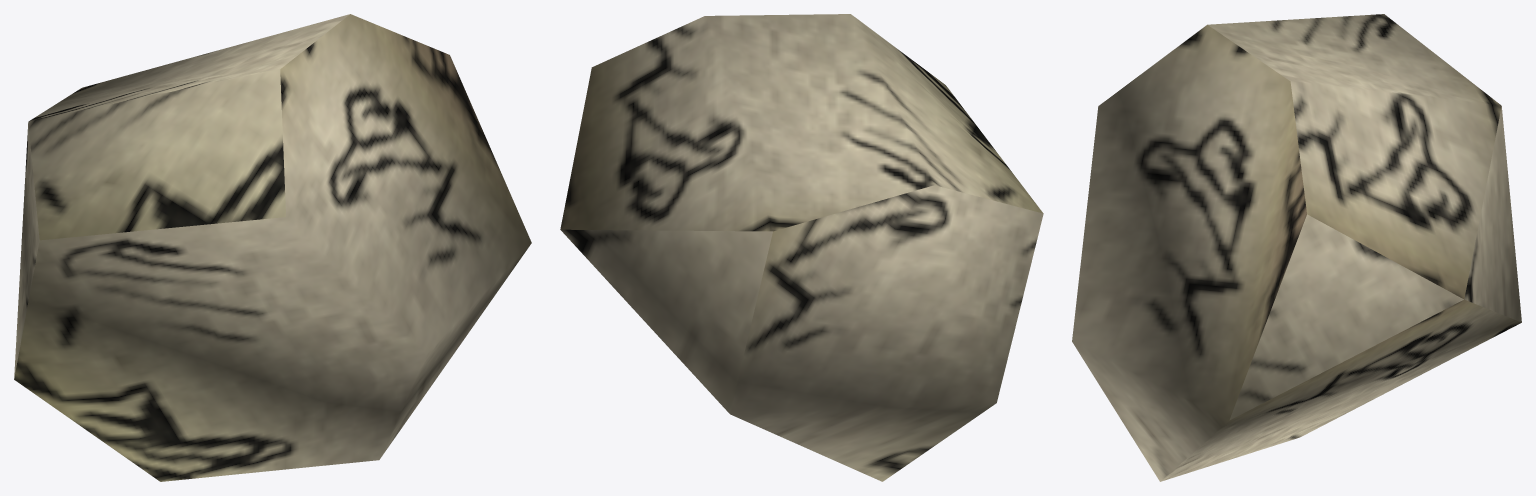
Rendered from boulder3.glb.
3 views of the same model, side by side, from view 1: azimuth 30°, elevation 25°; view 2: azimuth 150°, elevation 25°; view 3: azimuth 270°, elevation 25° (orthographic). The views are drawn at different scales.
Visible parts, largest first — view 1: Boulder_1; view 2: Boulder_1; view 3: Boulder_1.
Boxes of the visible parts, bbox=[...] form: Boulder_1: bbox=[14, 14, 531, 481]; Boulder_1: bbox=[560, 14, 1043, 481]; Boulder_1: bbox=[1072, 14, 1521, 481].
Bounding box in the file's own units: 0.6163 × 0.5221 × 0.4709.
1 material, 1 textured.
